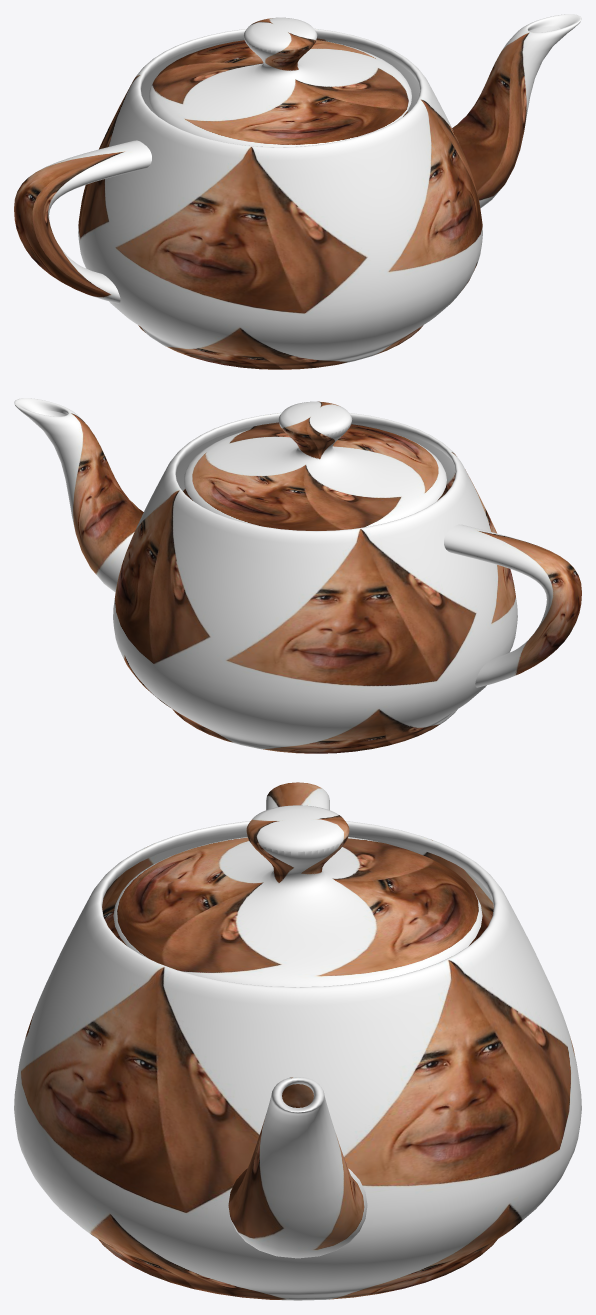
The model's file is teapot.fbx.
The picture shows the model from 3 angles, top to bottom: view 1: azimuth 30°, elevation 25°; view 2: azimuth 150°, elevation 25°; view 3: azimuth 270°, elevation 25°; orthographic projection. The views are drawn at different scales.
Visible parts, largest first — view 1: Teapot_Node; view 2: Teapot_Node; view 3: Teapot_Node.
Boxes of the visible parts, <box> form: Teapot_Node: <box>14,14,581,369</box>; Teapot_Node: <box>14,398,581,753</box>; Teapot_Node: <box>14,782,581,1300</box>.
Size of the model in its own units: 3.17 by 1.55 by 1.97.
Materials: 1 (1 with a texture image).
